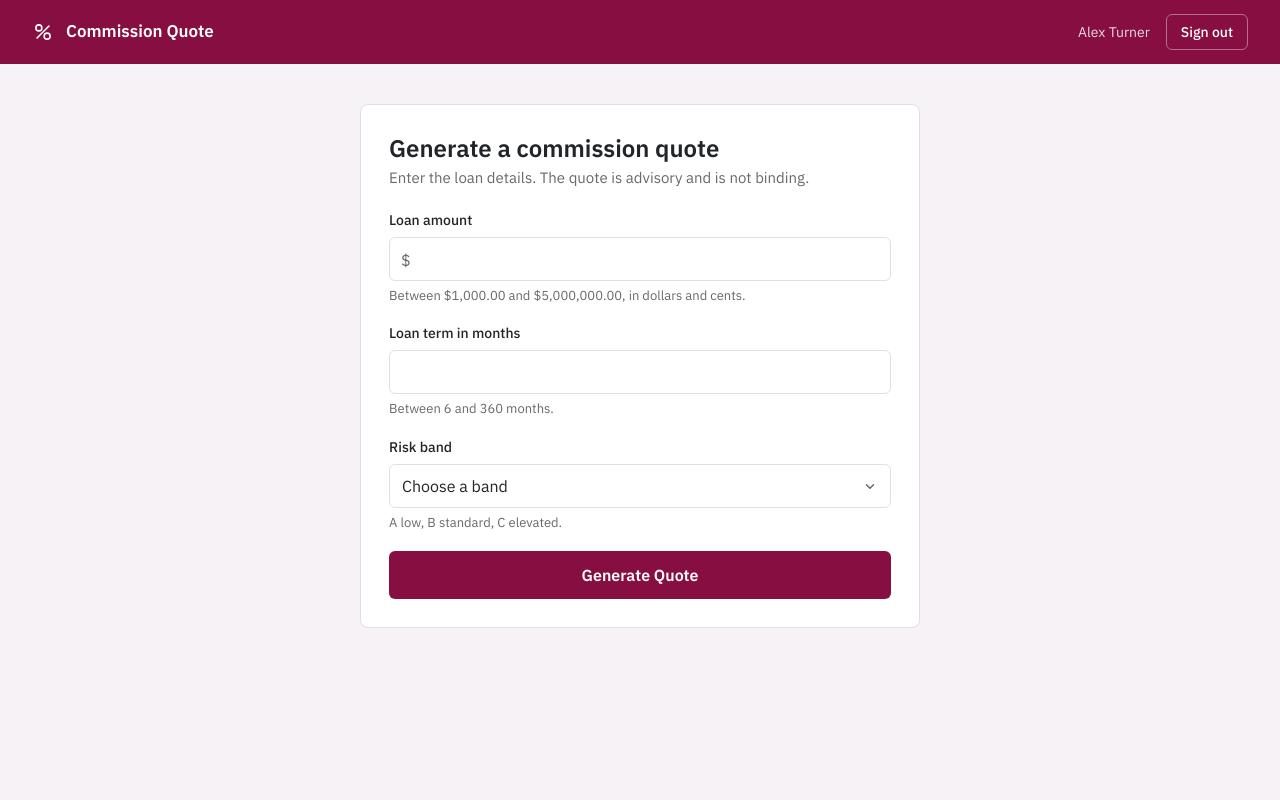
Test: validation › renders field errors the Middleware found that the front end let through
Expected: the heading "Generate a commission quote" is shown, [389, 132, 719, 164]
Type "250000.00" into the field labelled "Loan amount".
click(640, 258); type("250000.00")  # box [389, 236, 891, 280]
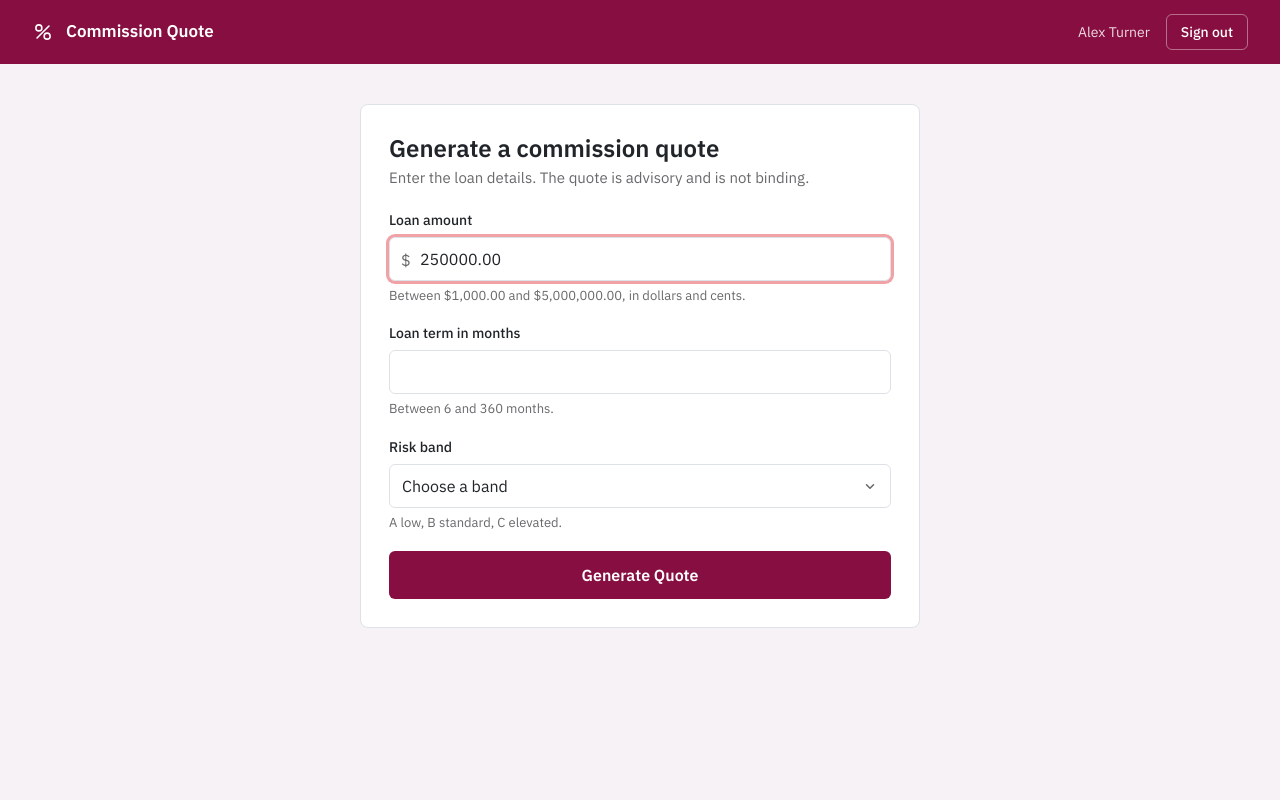
Type "240" into the field labelled "Loan term in months".
click(640, 372); type("240")  # box [389, 350, 891, 394]
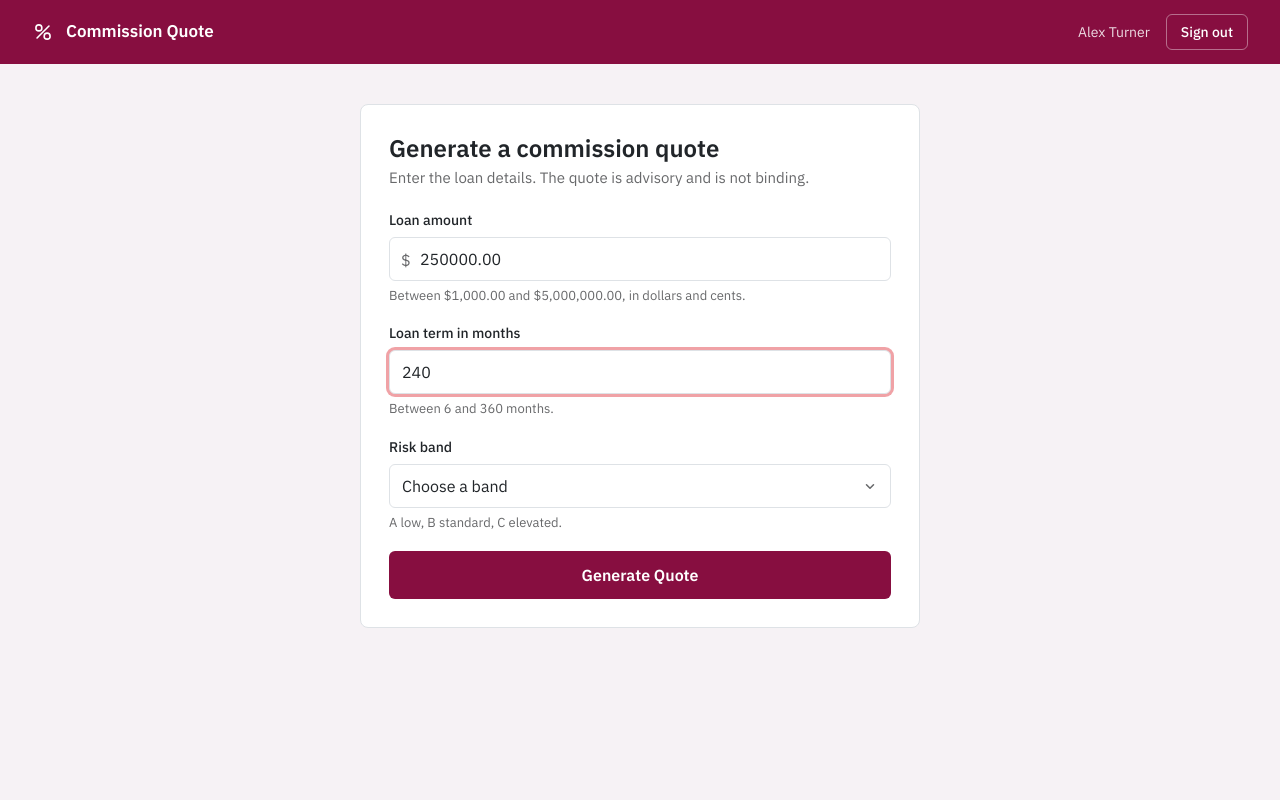
Select "B — Standard risk" in the dropdown labelled "Risk band" at (640, 486), box [389, 464, 891, 508]
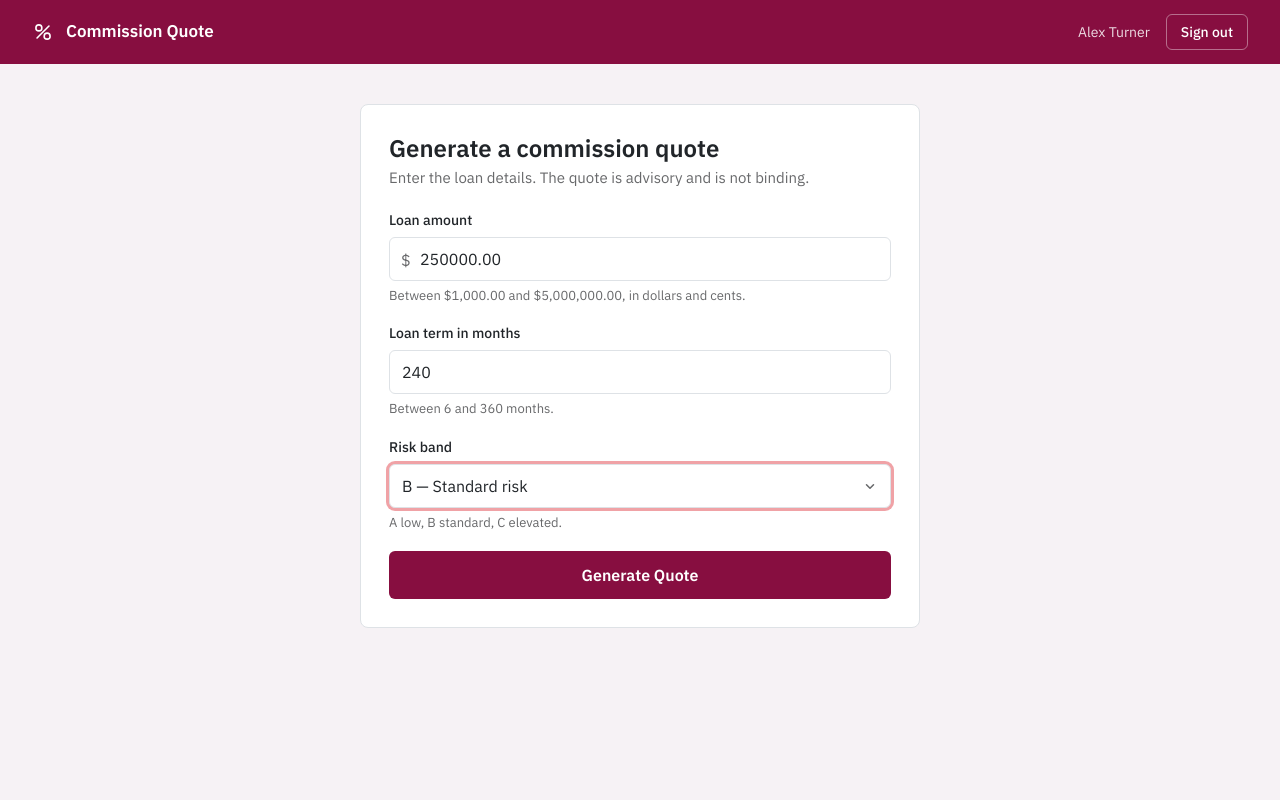
Click the button "Generate Quote".
click(640, 575)  # box [389, 551, 891, 599]
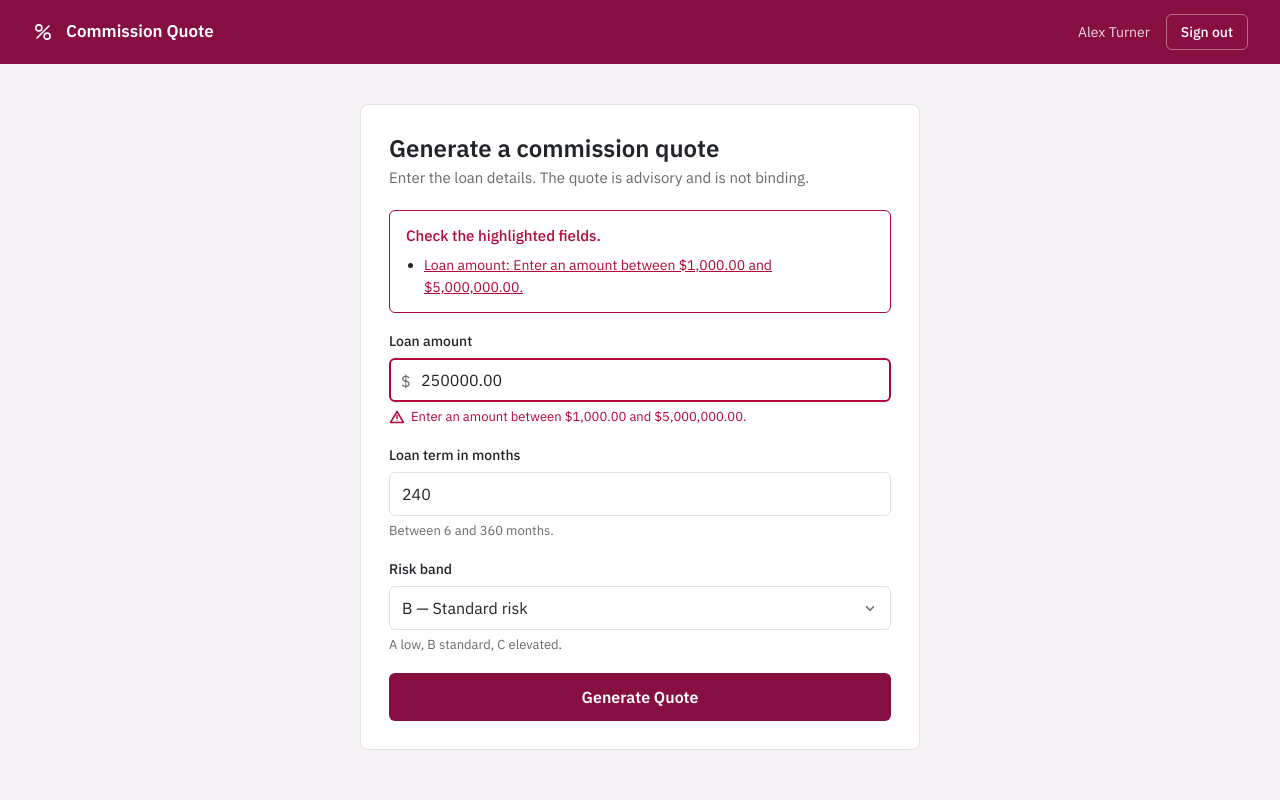
Expected: the message shows "Loan amount", [424, 256, 772, 296]
